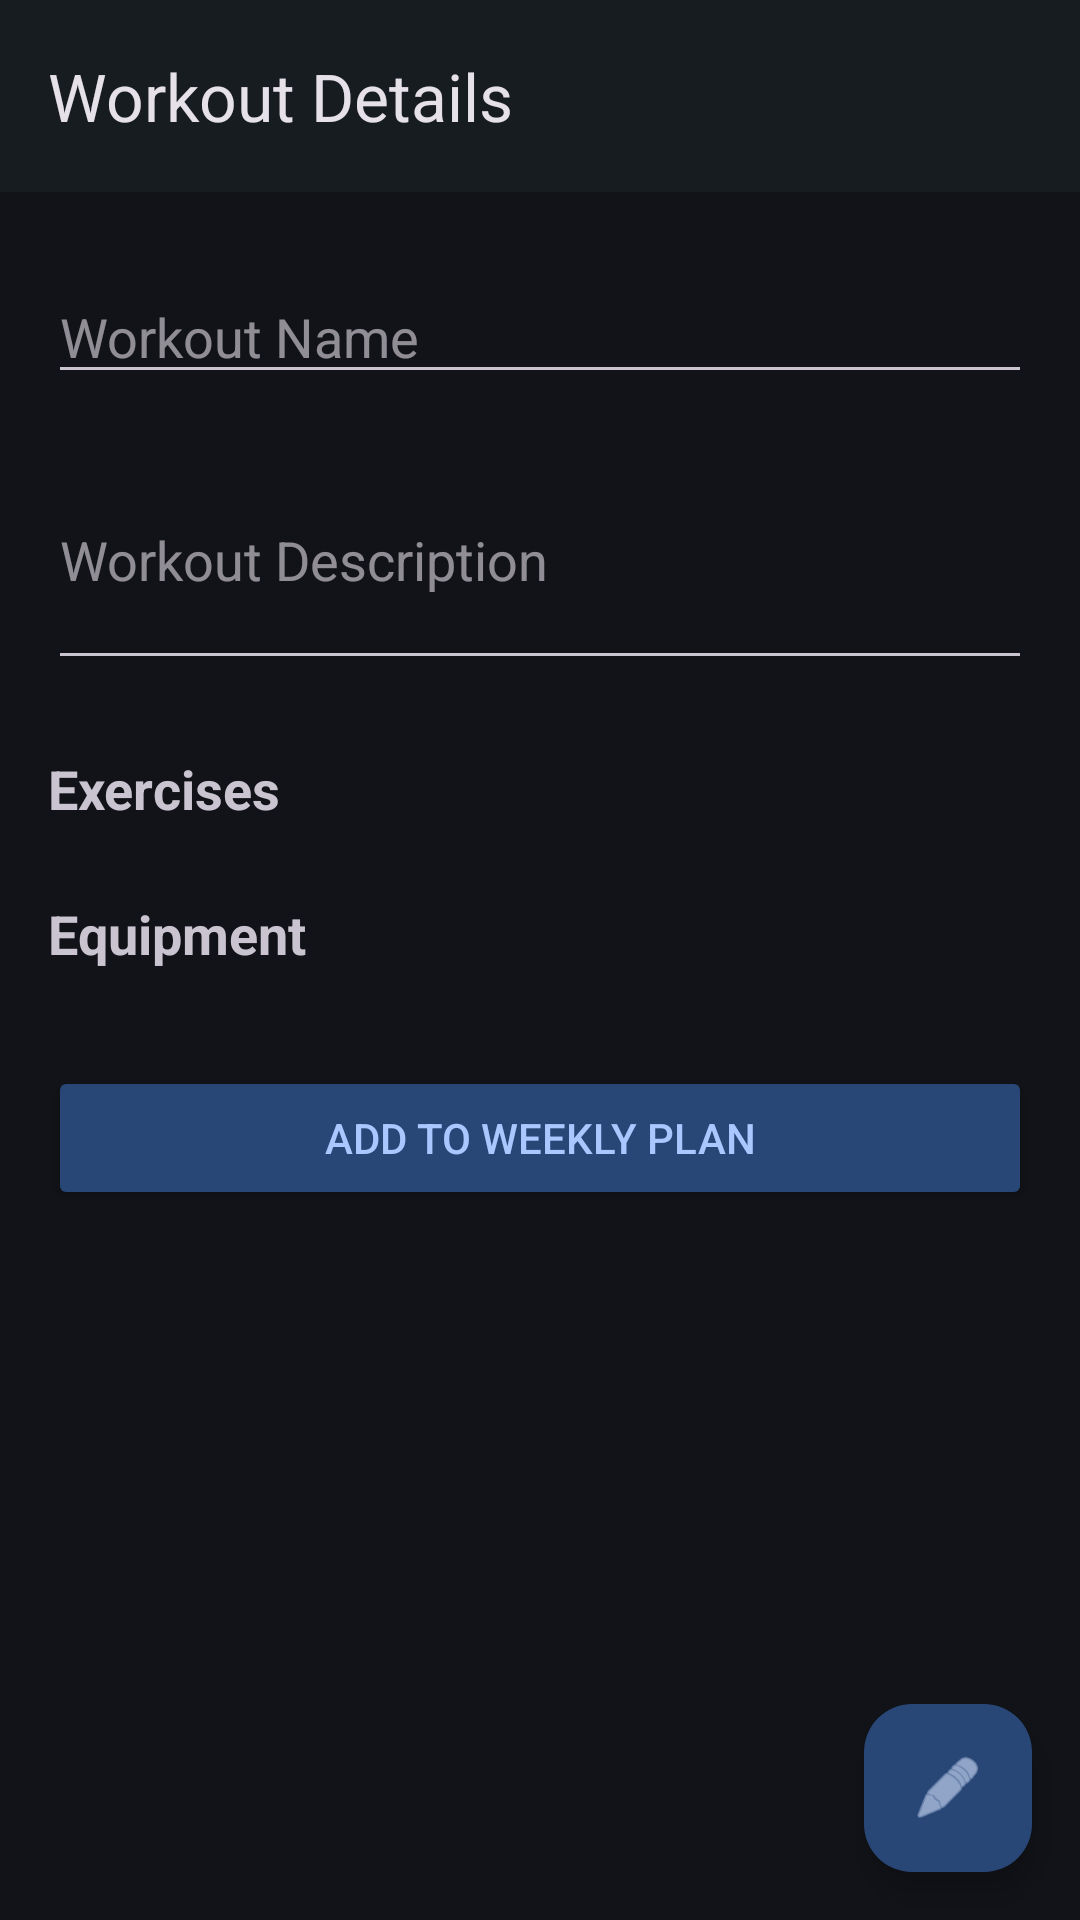

Locate icon controls on the screen. Image size 1080 x 1920, boxes as (x1, y1, x2, y2).
Update Workout: (864, 1704, 1032, 1872)
